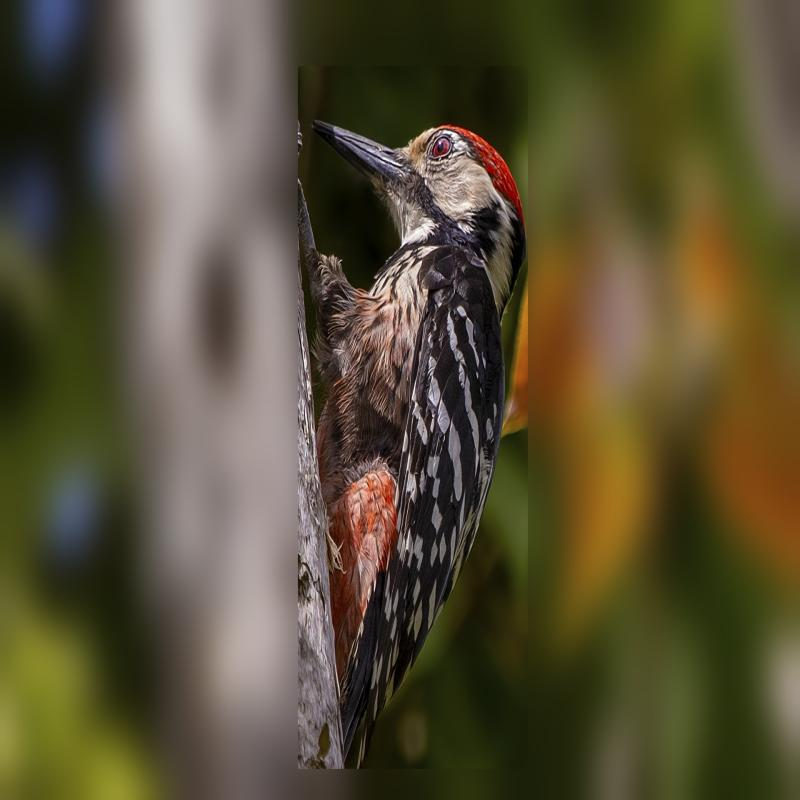white-backed woodpecker: (305, 106, 524, 758)
